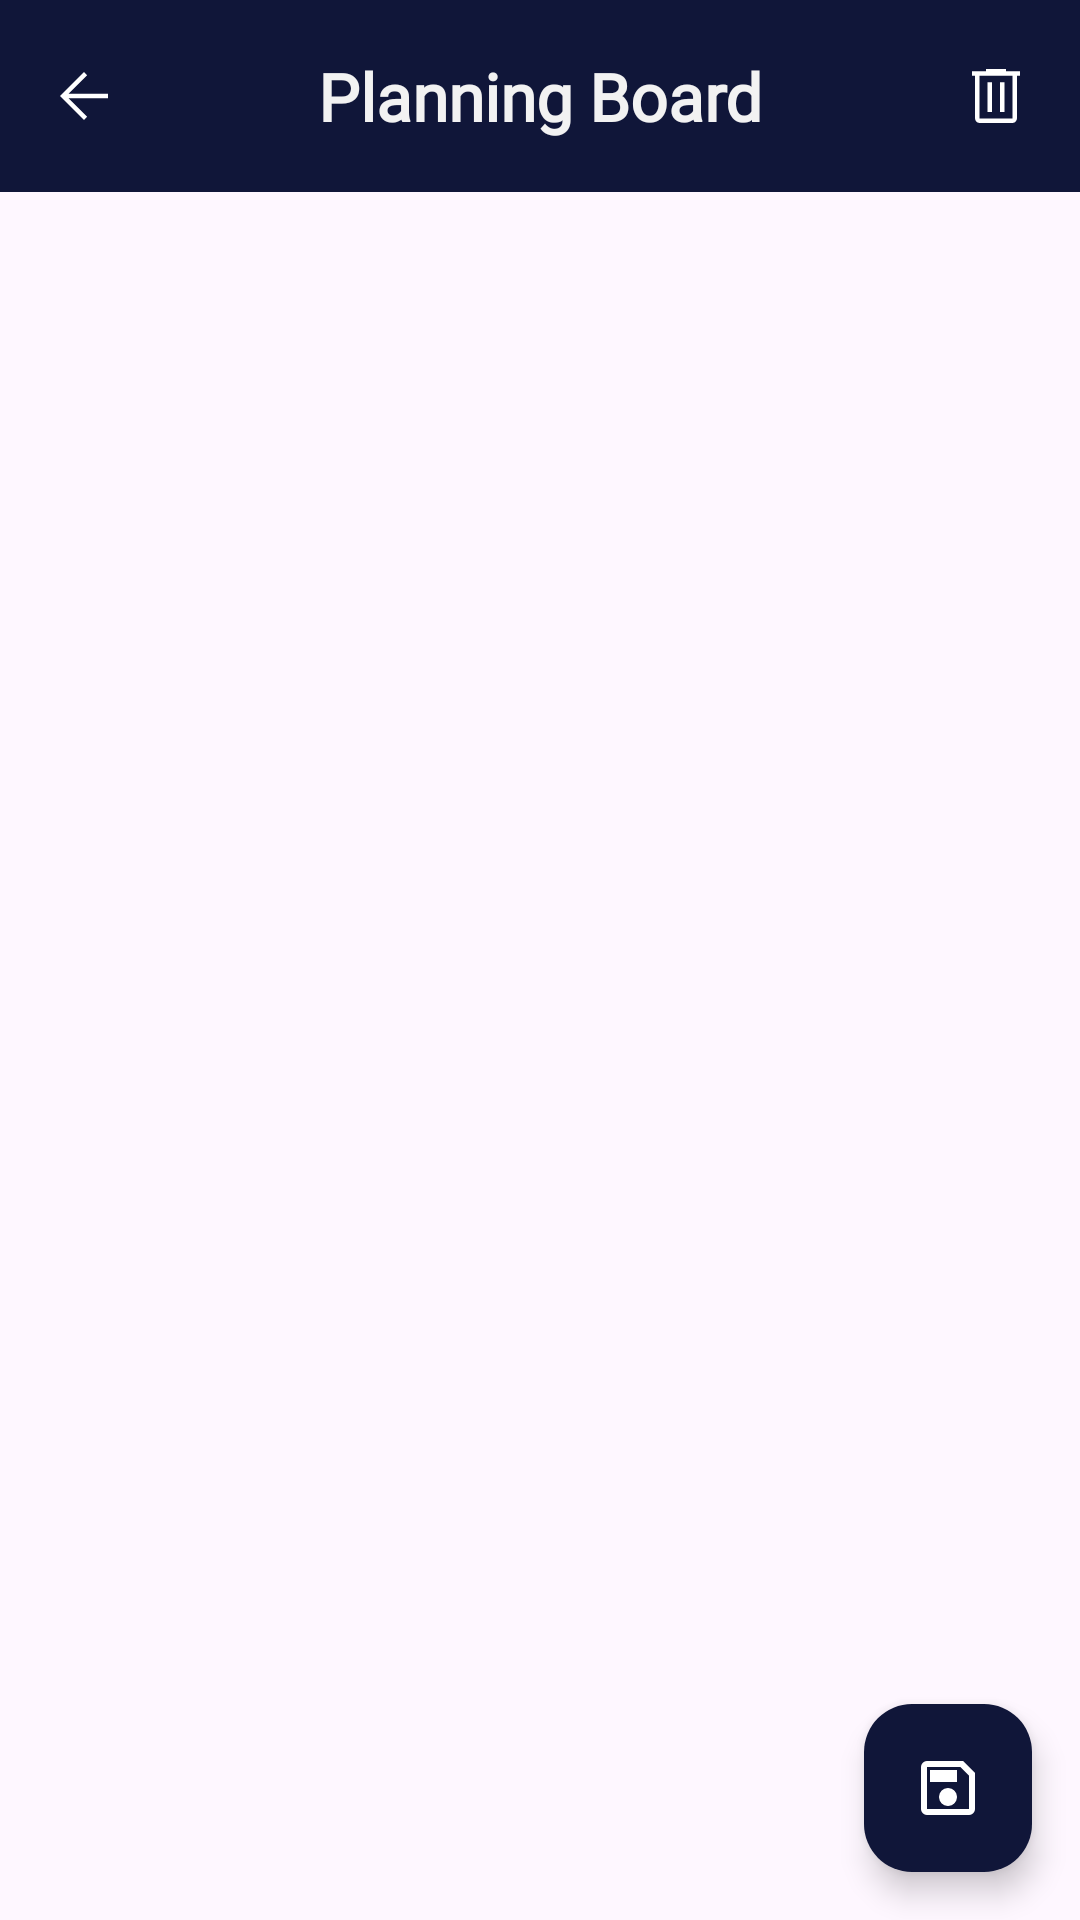

Where icons sit on this 1080px×1920px app screen, as detection(x1, y1, x2, y2):
back: detection(60, 72, 108, 120)
delete: detection(972, 69, 1020, 123)
save: detection(864, 1704, 1032, 1872)
